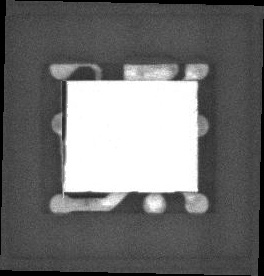DIE_BROKEN: (58, 78, 69, 185)
